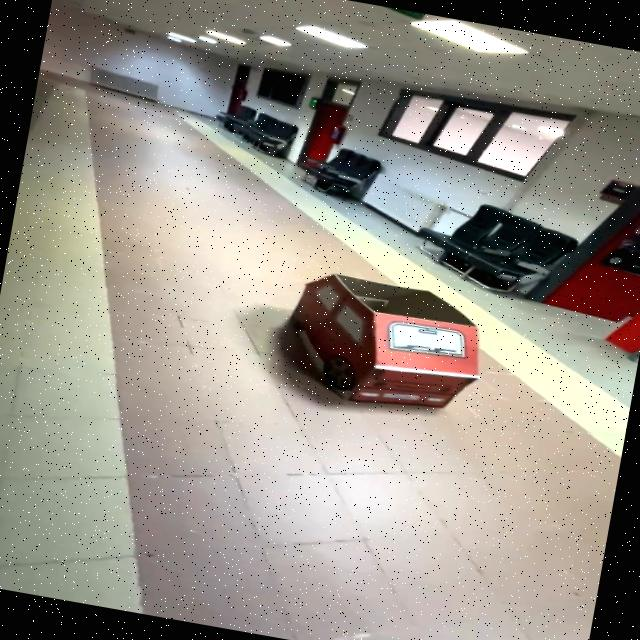red_car: (212, 236, 532, 446)
